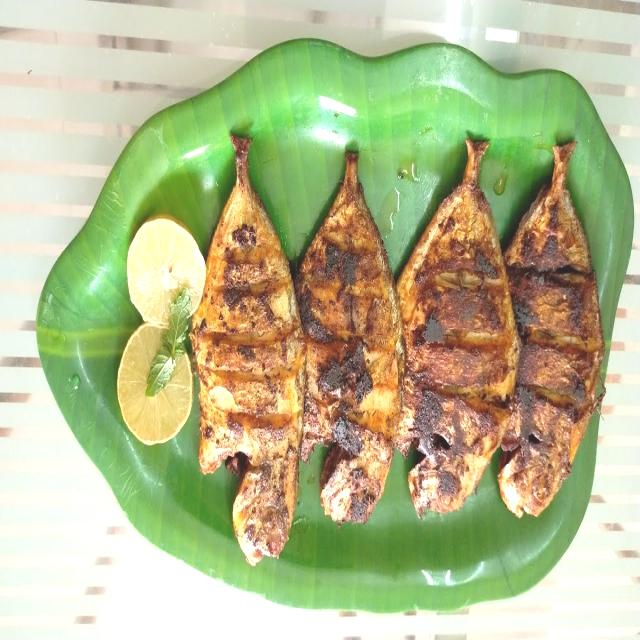ikan bakar: (190, 135, 308, 560), (396, 136, 520, 514), (291, 150, 412, 525), (497, 145, 600, 515)
